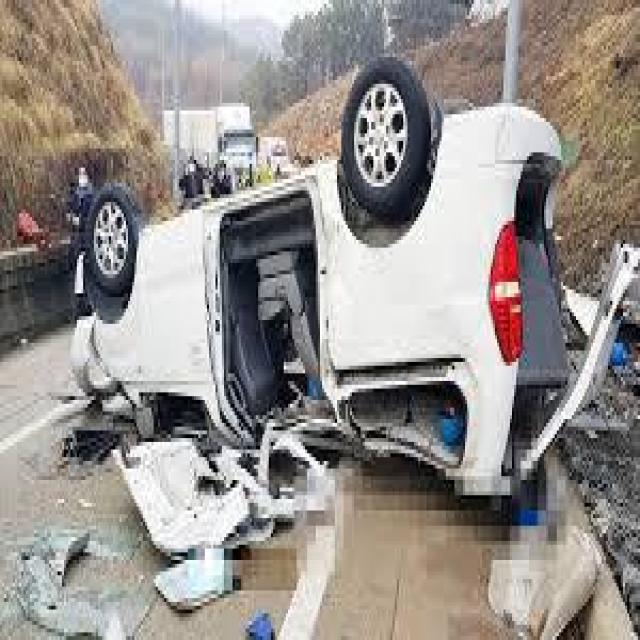severe: (66, 49, 572, 522)
